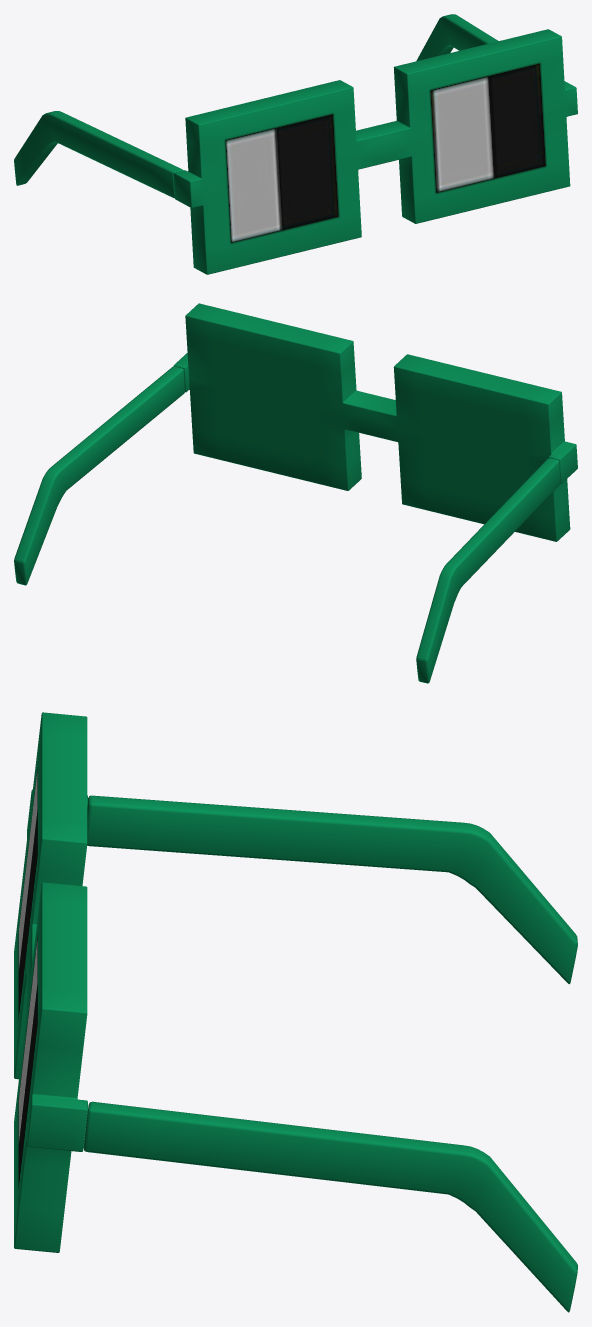
File: glasses_green.glb
The picture shows the model from 3 angles, top to bottom: view 1: azimuth 30°, elevation 25°; view 2: azimuth 150°, elevation 25°; view 3: azimuth 270°, elevation 25°; orthographic projection. The views are drawn at different scales.
Visible parts, largest first — view 1: glasses_4; view 2: glasses_4; view 3: glasses_4.
Part boxes in pixels (box(x1,y1,x2,y2)): glasses_4: box(14, 14, 577, 274); glasses_4: box(14, 303, 577, 683); glasses_4: box(14, 712, 577, 1312).
Size of the model in its own units: 0.2041 by 0.0804 by 0.1441.
Materials: 1 (1 with a texture image).
